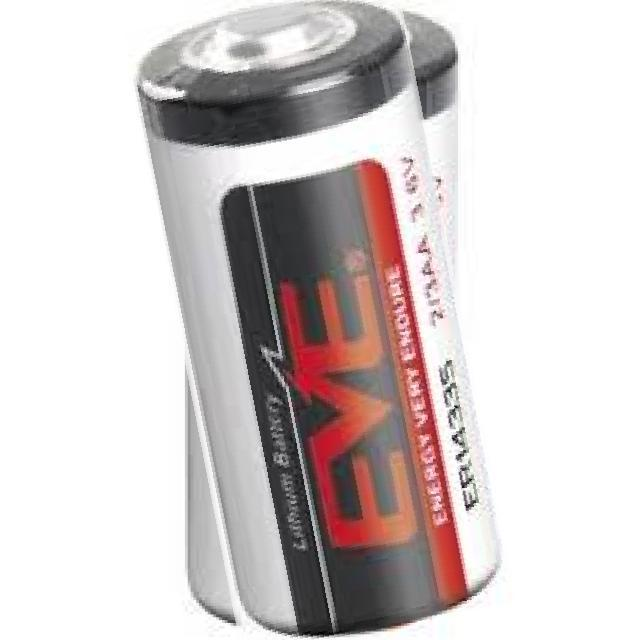Battery: (127, 8, 511, 639), (179, 362, 246, 631), (402, 0, 465, 273)
